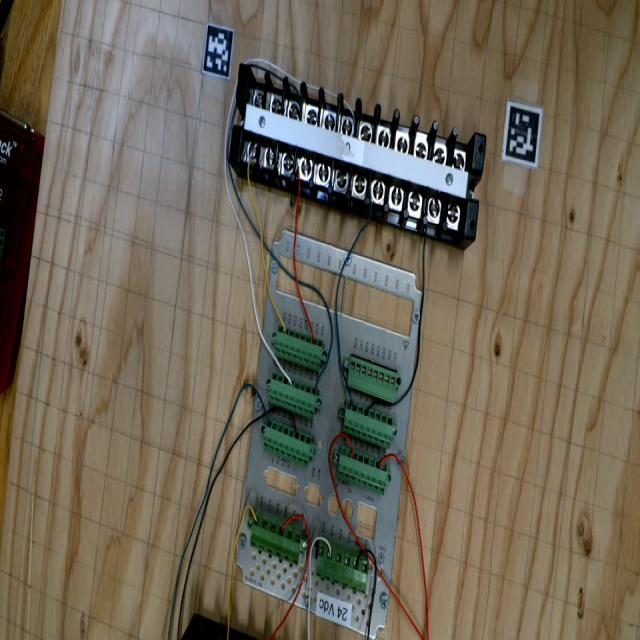Phillips_Block: (210, 57, 506, 240)
Terminal_1: (308, 541, 377, 594), (242, 513, 310, 566)
Terminal_2: (329, 443, 396, 496), (335, 398, 401, 449), (256, 416, 320, 467), (268, 324, 330, 372), (262, 371, 324, 419)
